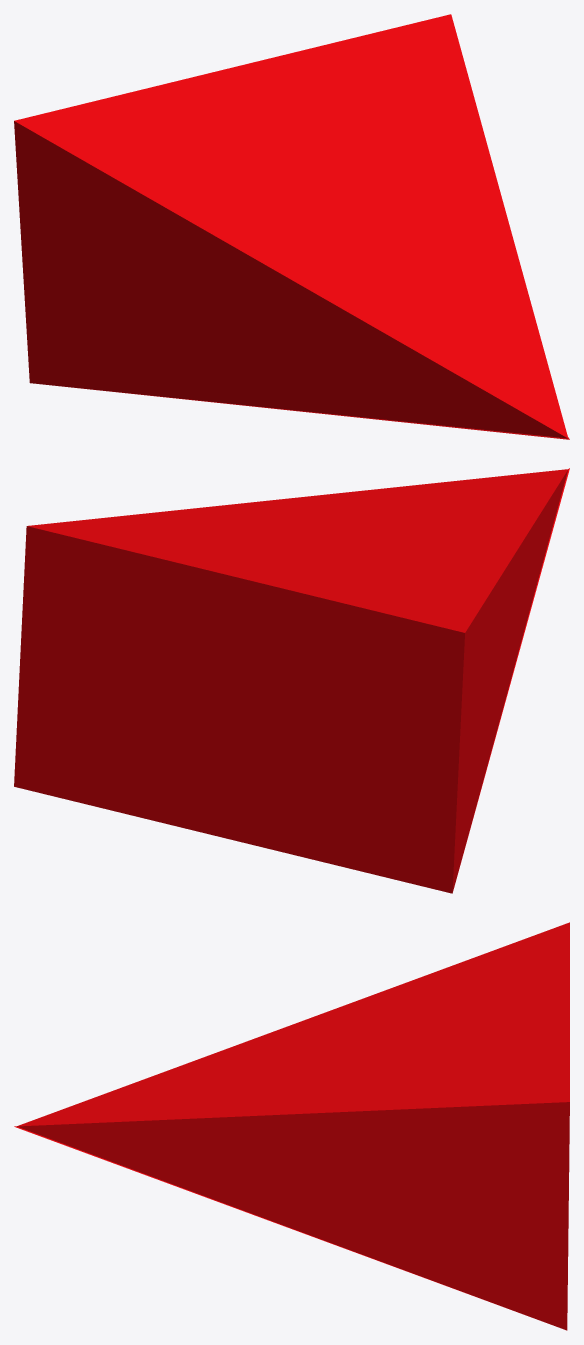
Rendered from wedge_red.gltf.
3 views of the same model, one above another, from view 1: azimuth 30°, elevation 25°; view 2: azimuth 150°, elevation 25°; view 3: azimuth 270°, elevation 25° (orthographic). The views are drawn at different scales.
Parts seen in each view (by area): view 1: Cube; view 2: Cube; view 3: Cube.
Boxes of the visible parts, box(x1,y1,x2,y2) form: Cube: box(14, 14, 569, 439); Cube: box(14, 468, 569, 893); Cube: box(14, 922, 569, 1330).
Bounding box in the file's own units: 2.03 × 1.14 × 2.57.
